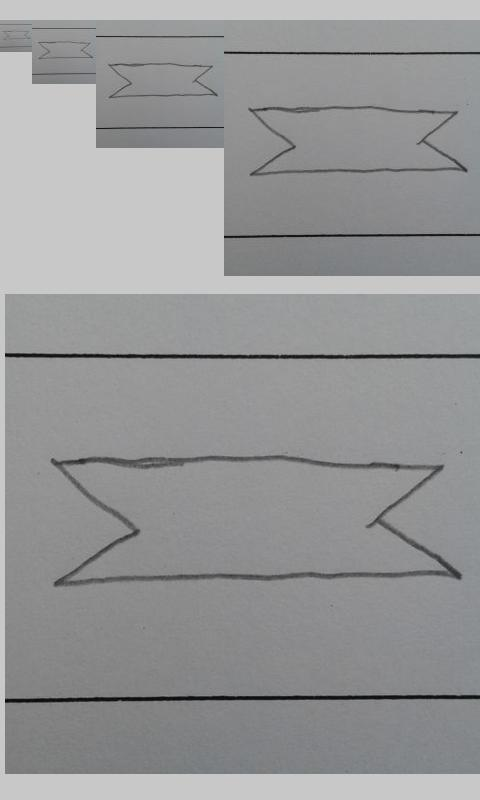edit_text: (50, 453, 459, 583), (247, 105, 466, 175), (108, 62, 217, 98), (38, 41, 93, 59), (3, 30, 30, 40)
